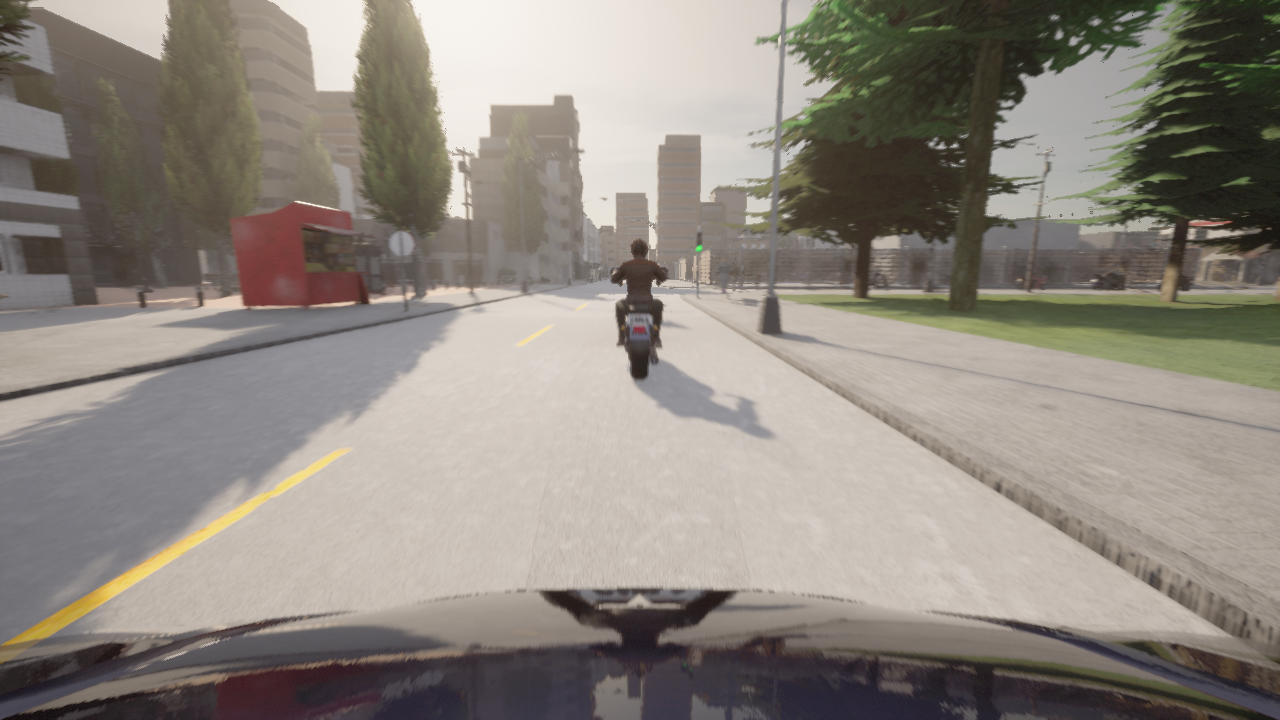cyclist: (0, 588, 1279, 719), (611, 268, 668, 379), (1156, 273, 1194, 290), (1091, 273, 1127, 290), (1016, 274, 1048, 290), (869, 274, 890, 290), (824, 268, 844, 280), (752, 271, 778, 280), (787, 271, 804, 280), (738, 267, 744, 280), (845, 271, 852, 278), (761, 273, 766, 278)
pedestrian: (716, 257, 733, 299), (732, 263, 738, 290), (755, 272, 761, 291)
